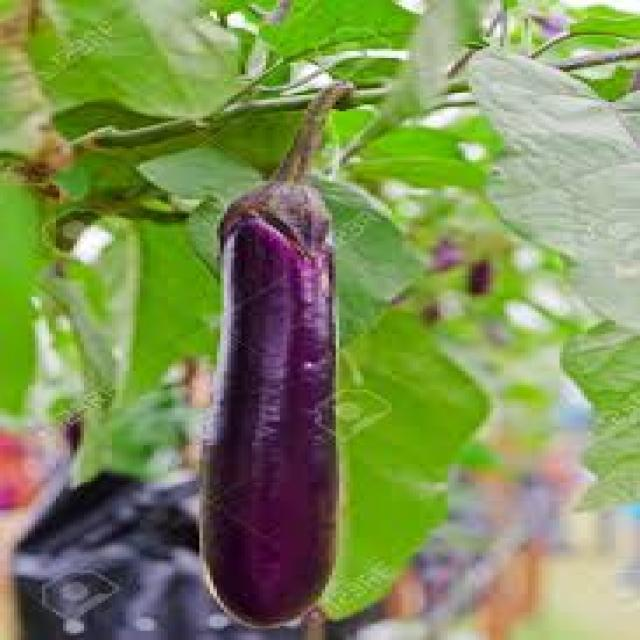Eggplant: (208, 124, 348, 626)
